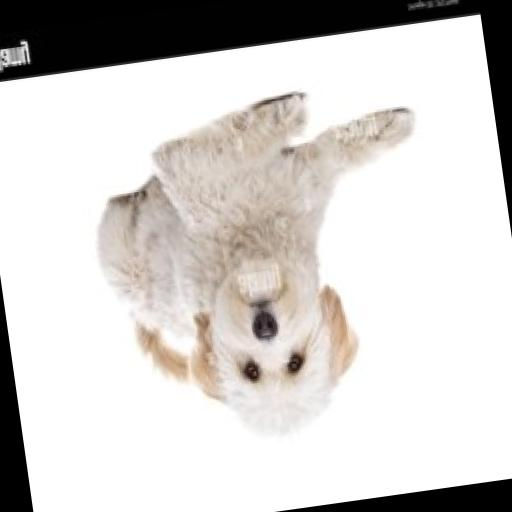dog: (68, 68, 462, 466)
